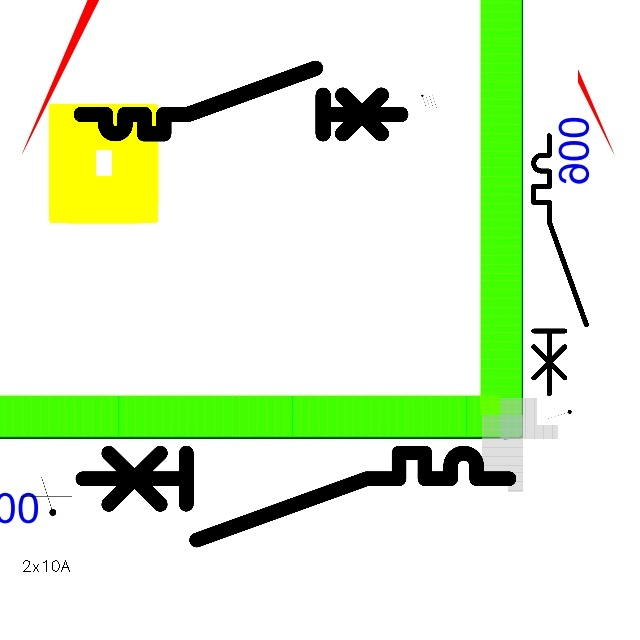interruptor_termomagnetico: (71, 442, 519, 551), (73, 60, 409, 142), (527, 129, 593, 400)
